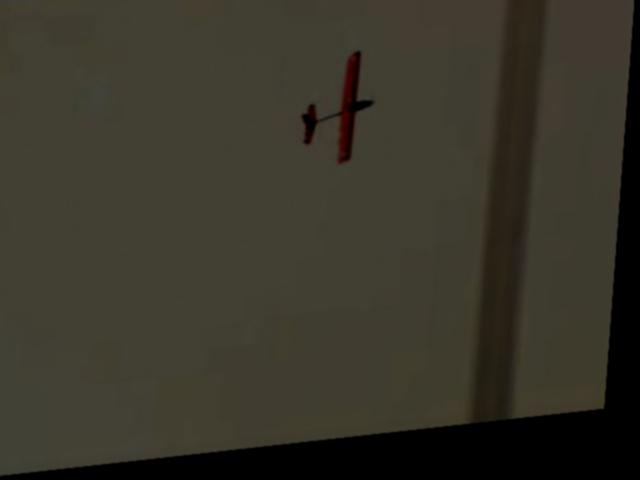uav: (300, 56, 377, 176)
